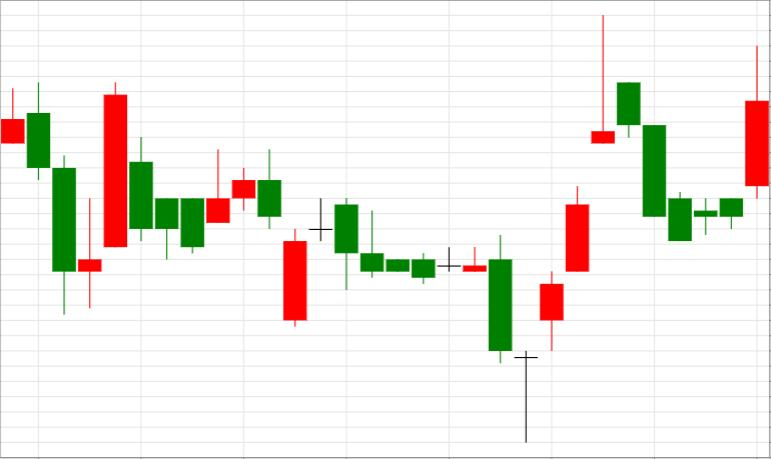morning_star_rise: (334, 198, 563, 442)
